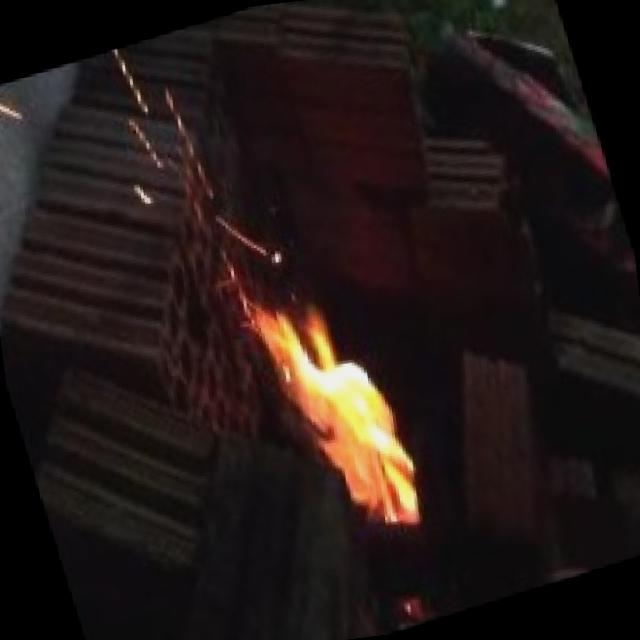fire: (101, 3, 464, 592)
